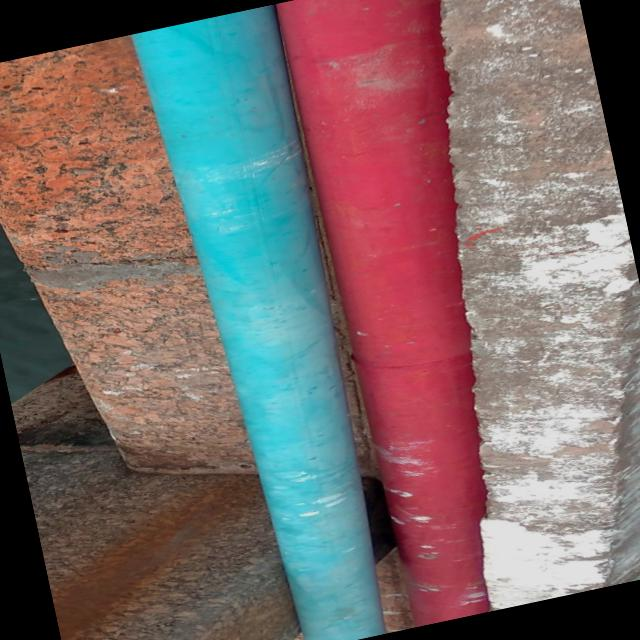gas: (133, 5, 383, 640), (278, 0, 487, 624)
